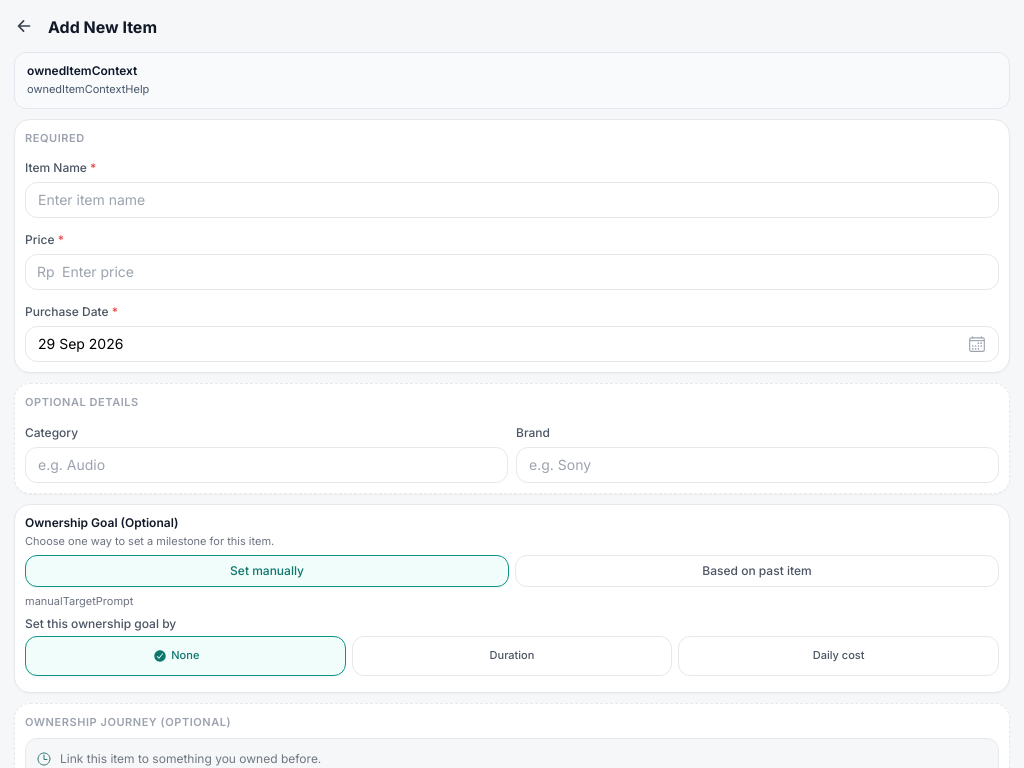
Test: AddItem component date localization › shows a user-facing API error when saving fails
In the field with placeholder "Enter item name": (512, 200) [25,182,999,218], type "Laptop"
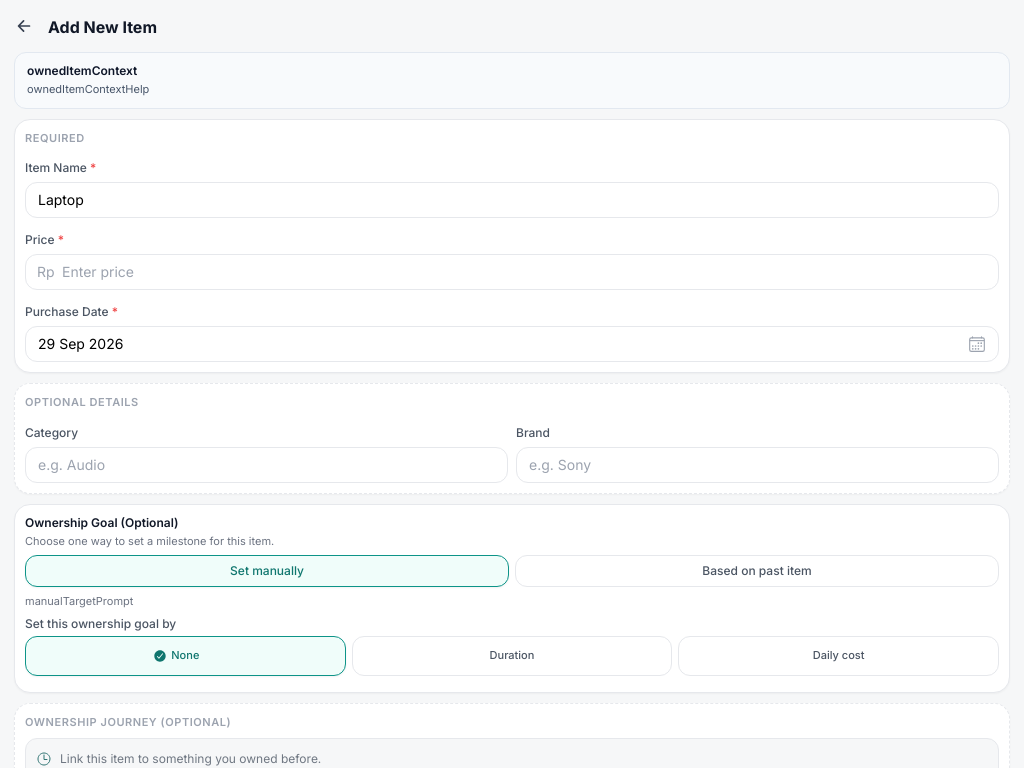
In the field with placeholder "Enter price": (512, 272) [25,254,999,290], type "1200"
(page scrolled)
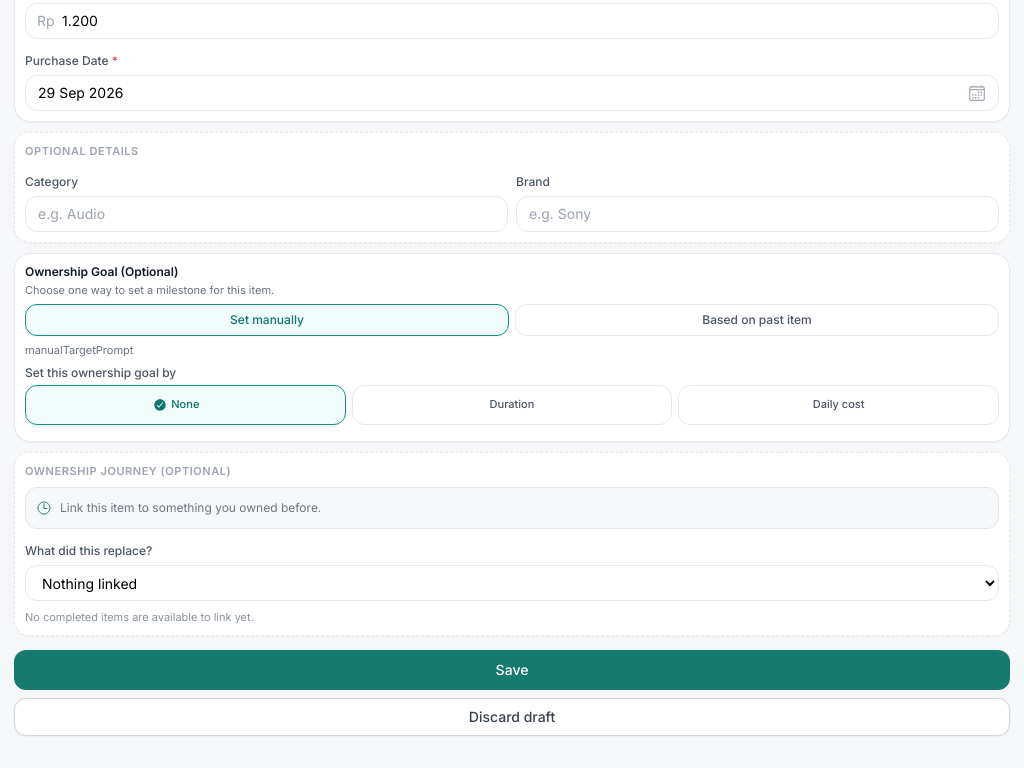
Click the button "Save": (512, 670) [14,650,1010,690]
(page scrolled)
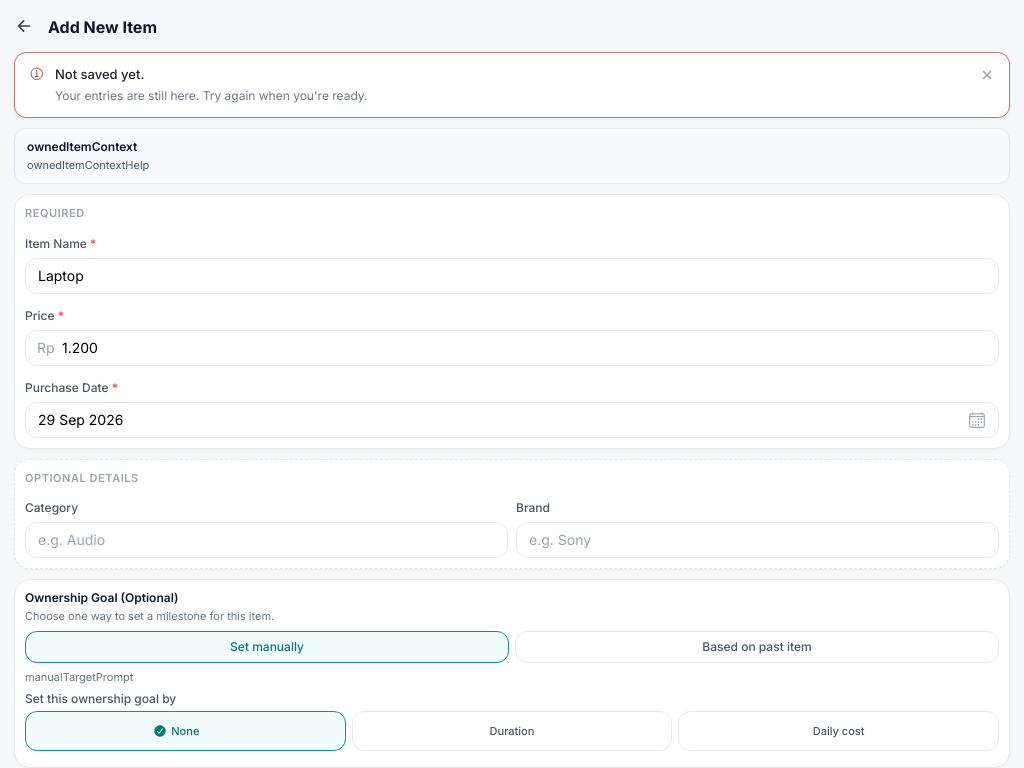
Result: the message shows "Your entries are still here. Try again when you're ready." at [55,88,368,102]
